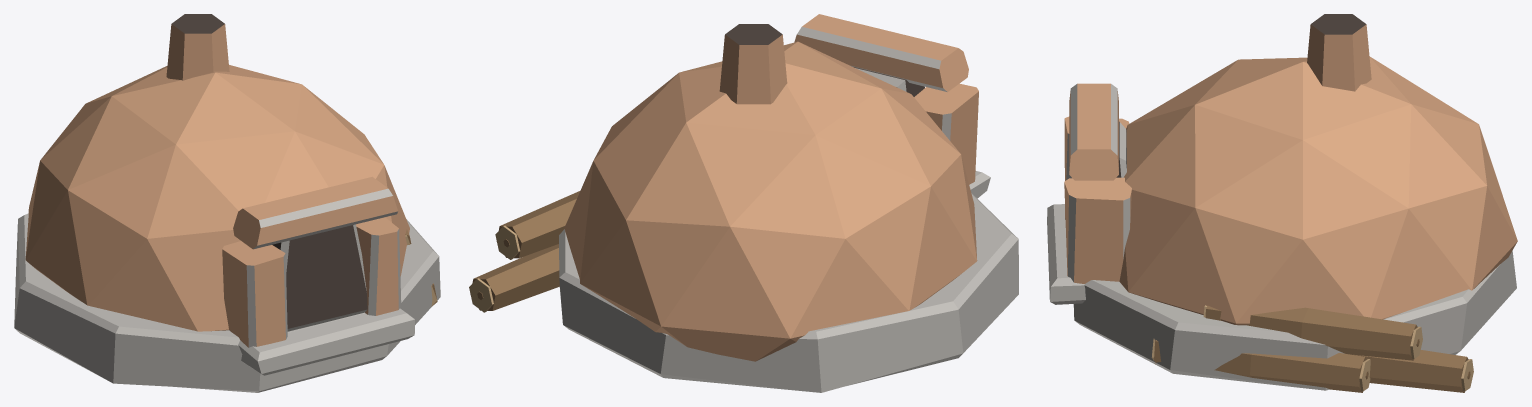
The model's file is clay_oven.glb.
3 renders of one model, left to right at view 1: azimuth 30°, elevation 25°; view 2: azimuth 150°, elevation 25°; view 3: azimuth 270°, elevation 25°, orthographic. The views are drawn at different scales.
Visible parts, largest first — view 1: clay_oven; view 2: clay_oven; view 3: clay_oven.
Part boxes in pixels (x1=…): clay_oven: x1=14, y1=14, x2=440, y2=392; clay_oven: x1=469, y1=14, x2=1018, y2=392; clay_oven: x1=1047, y1=14, x2=1517, y2=392.
Bounding box in the file's own units: 0.9304 × 0.59 × 0.9245.
